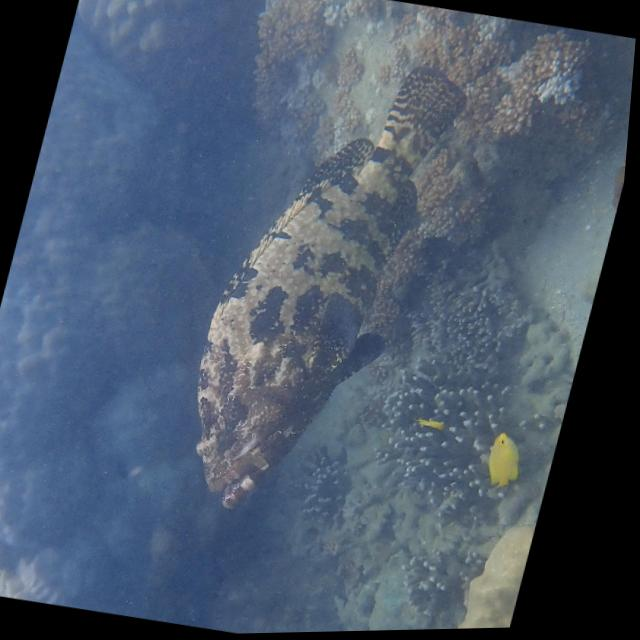Groupers: (160, 37, 479, 534)
